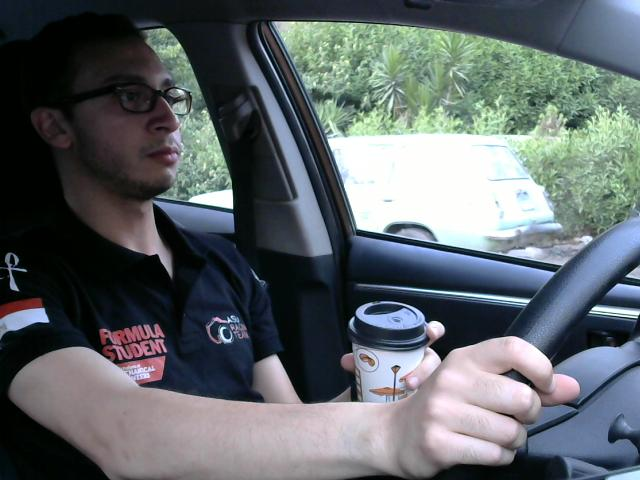Drinking: (345, 291, 435, 420)
